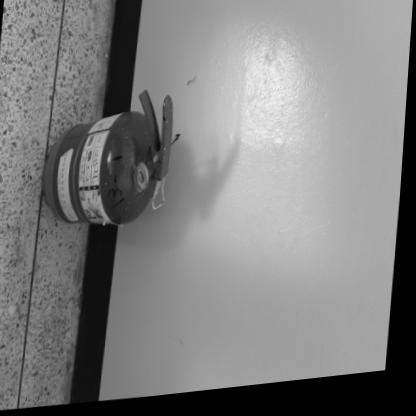FE: (40, 88, 178, 235)
